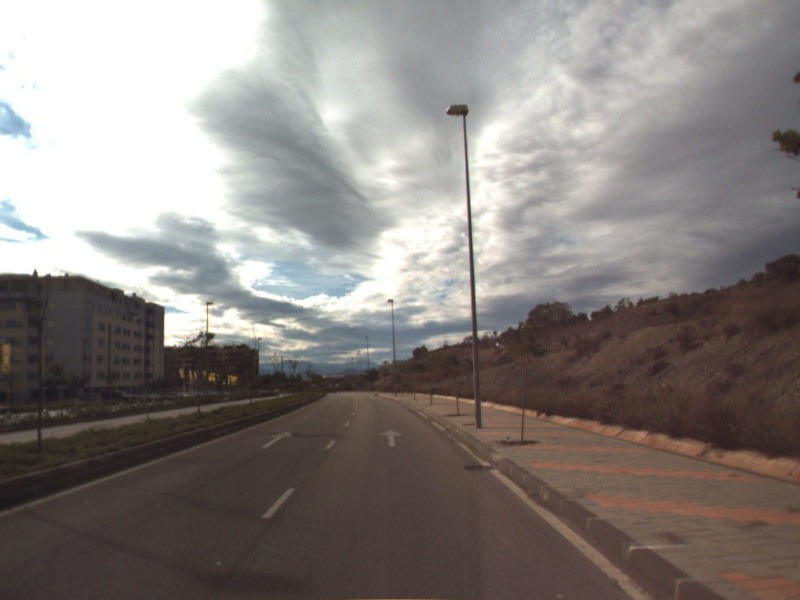STRAIGHT: (259, 428, 295, 450), (377, 427, 406, 448)
